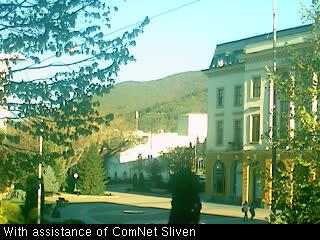person: (242, 201, 248, 222), (250, 202, 256, 222)
